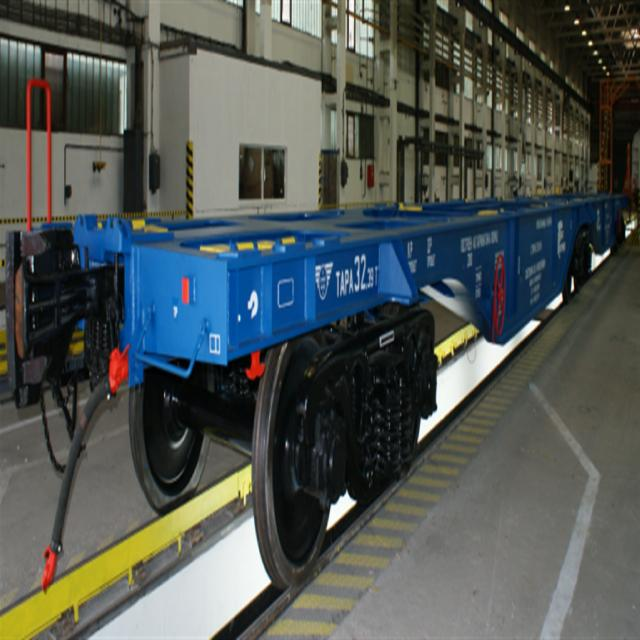flatcar: (36, 185, 631, 603)
